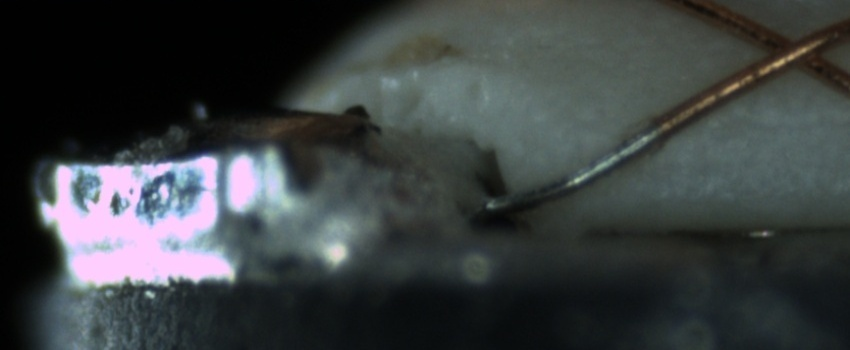CL: (739, 14, 845, 85)
DL: (715, 94, 848, 152)
TS: (485, 124, 662, 214)
